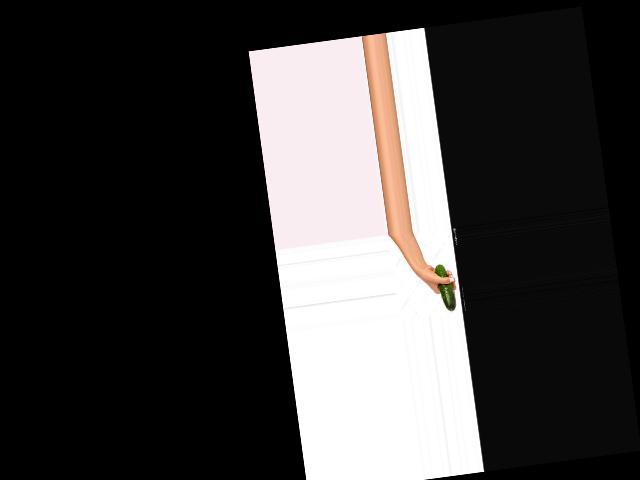cucumber: (434, 263, 457, 313)
